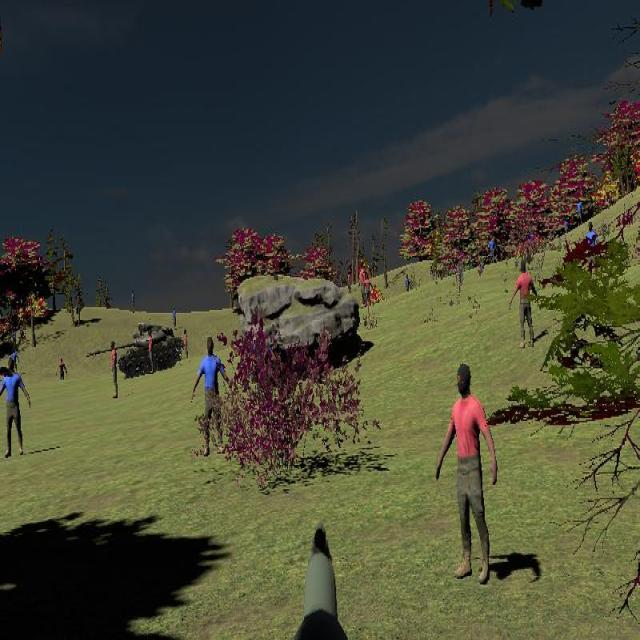Human: (435, 361, 498, 583), (192, 337, 232, 456), (0, 356, 30, 458), (510, 258, 539, 349)
Tank: (86, 328, 185, 378)
